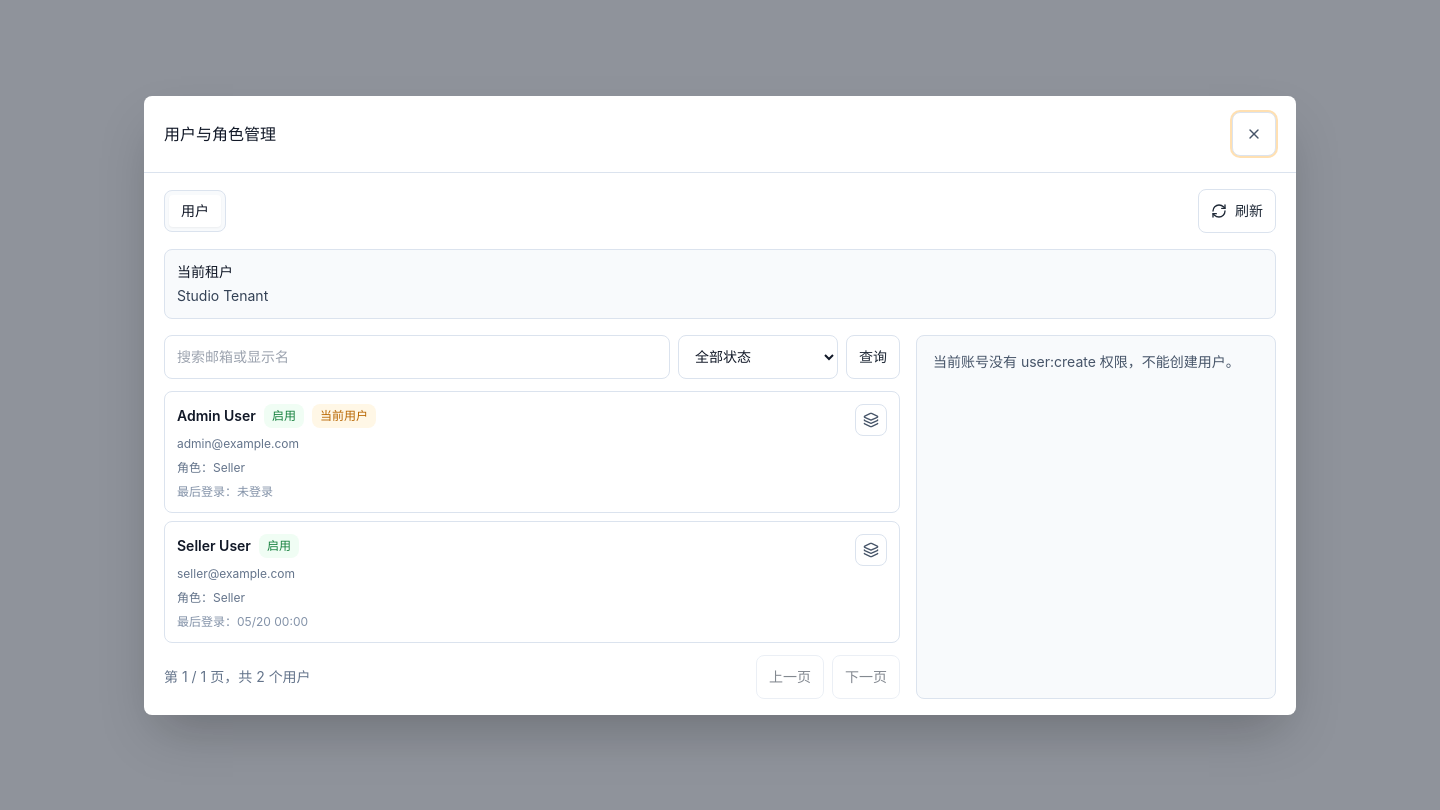
Scenario: user and role admin UI › lets an administrator assign models grouped by provider to an ordinary user
Click the button named "分配可用模型 seller@example.com" at (871, 550), box [855,534,887,566]
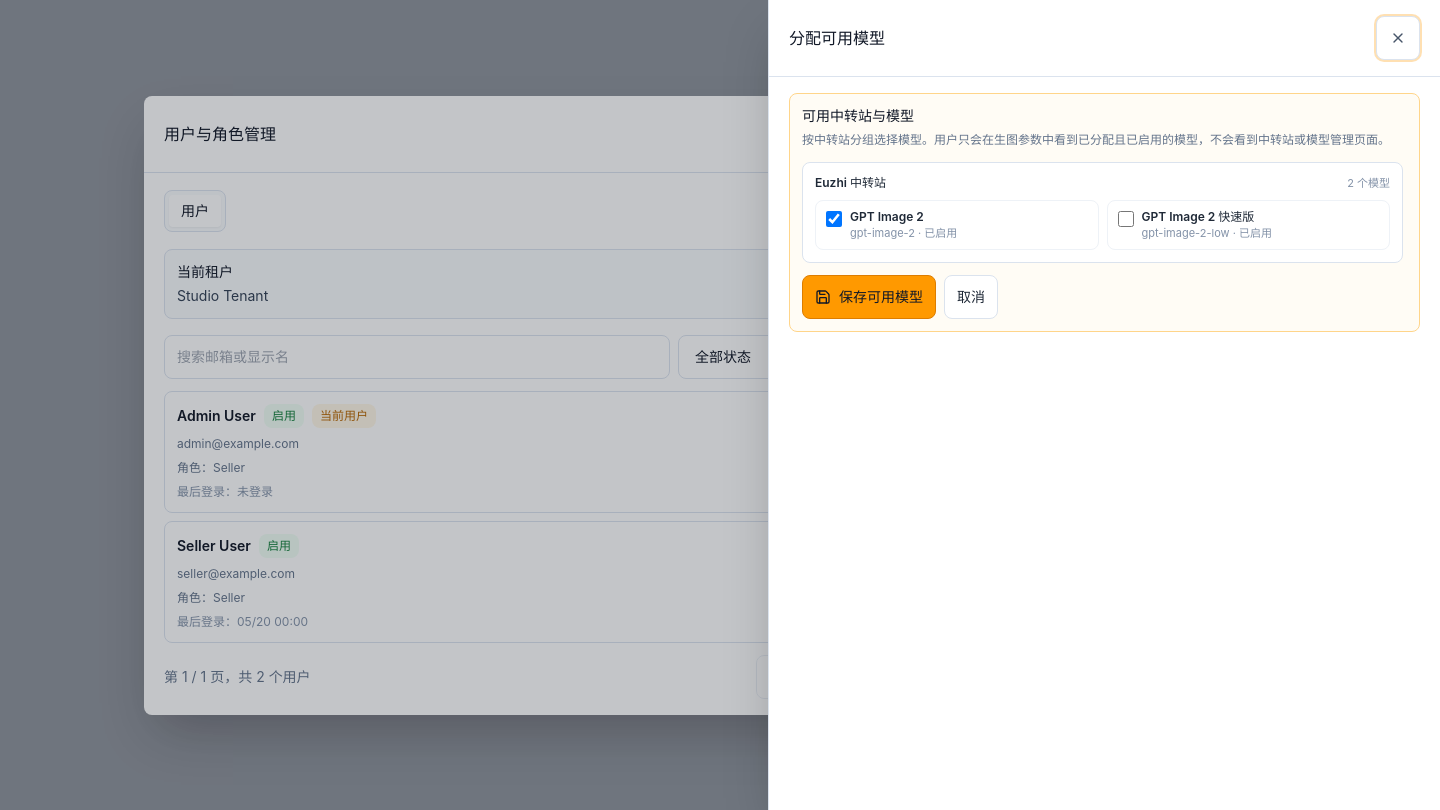
Expected: the dialog "分配可用模型" is shown, [768,0,1439,809]
Expected: the heading "Euzhi 中转站" is shown, [815,175,886,191]
Expected: the text "GPT Image 2" is shown, [850,208,924,224]
Click the checkbox named "GPT Image 2 快速版 Euzhi 中转站" at (1126, 218), box [1118,210,1134,226]
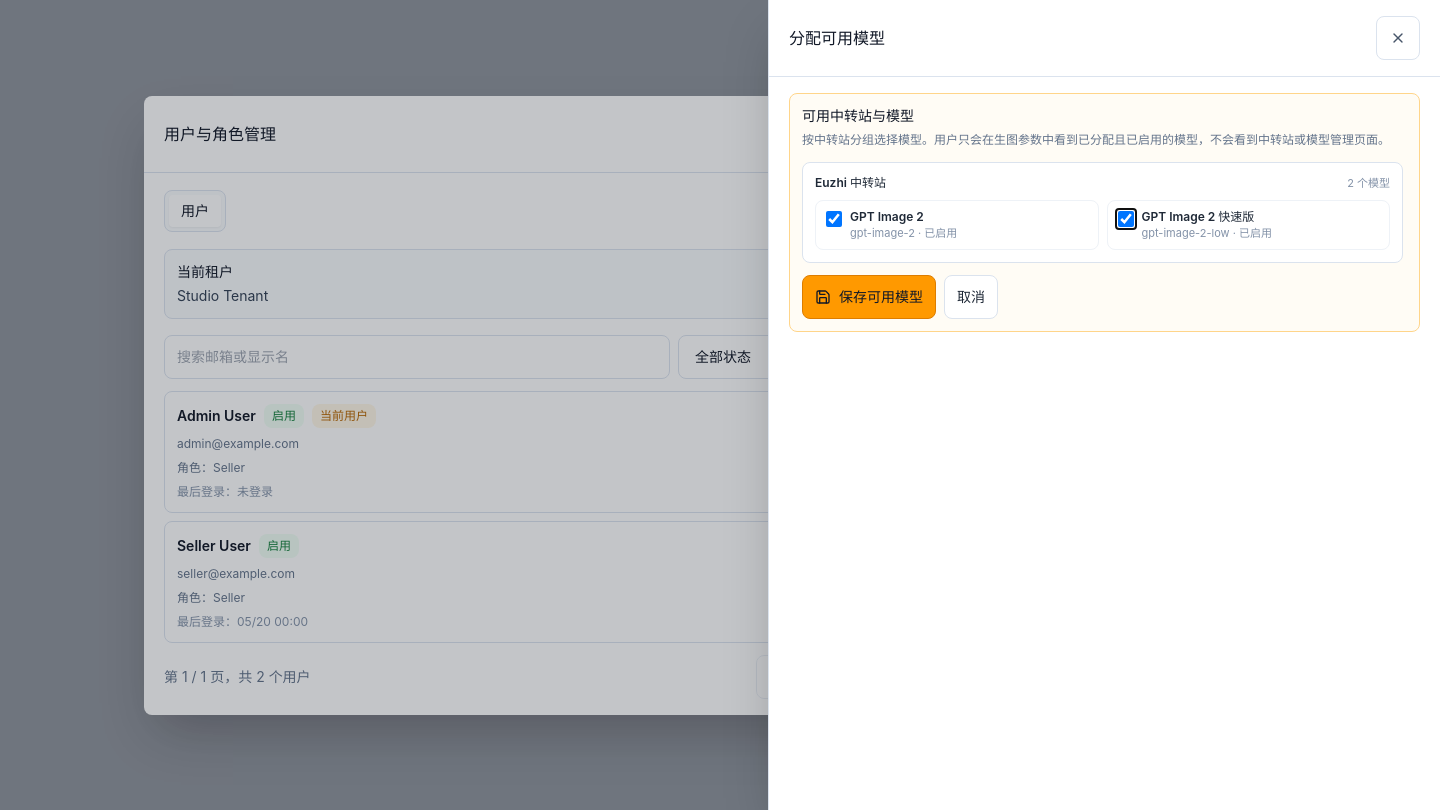
Click the button "保存可用模型" at (869, 297), box [802,275,936,319]
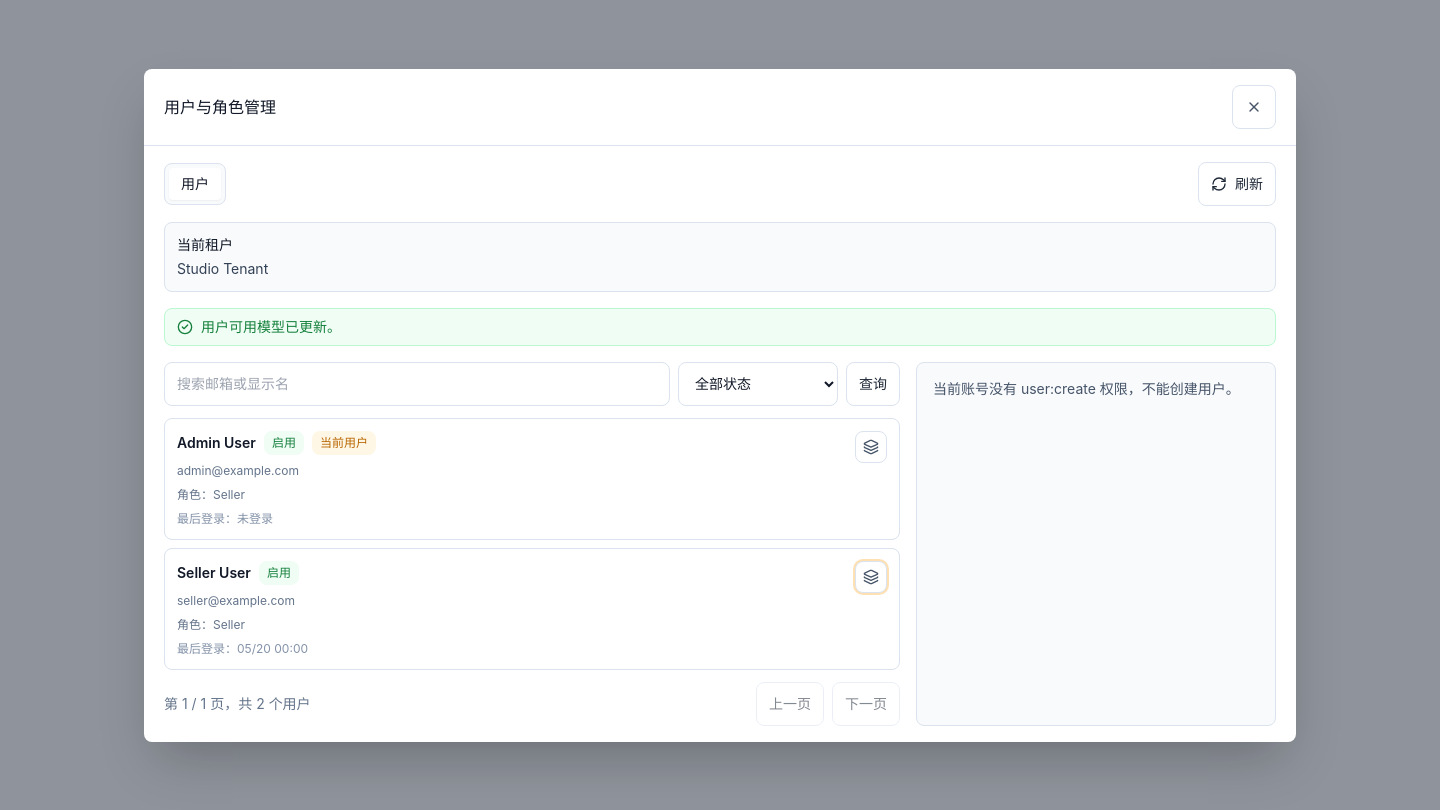
Expected: the text "用户可用模型已更新。" is shown, [201,316,341,336]
